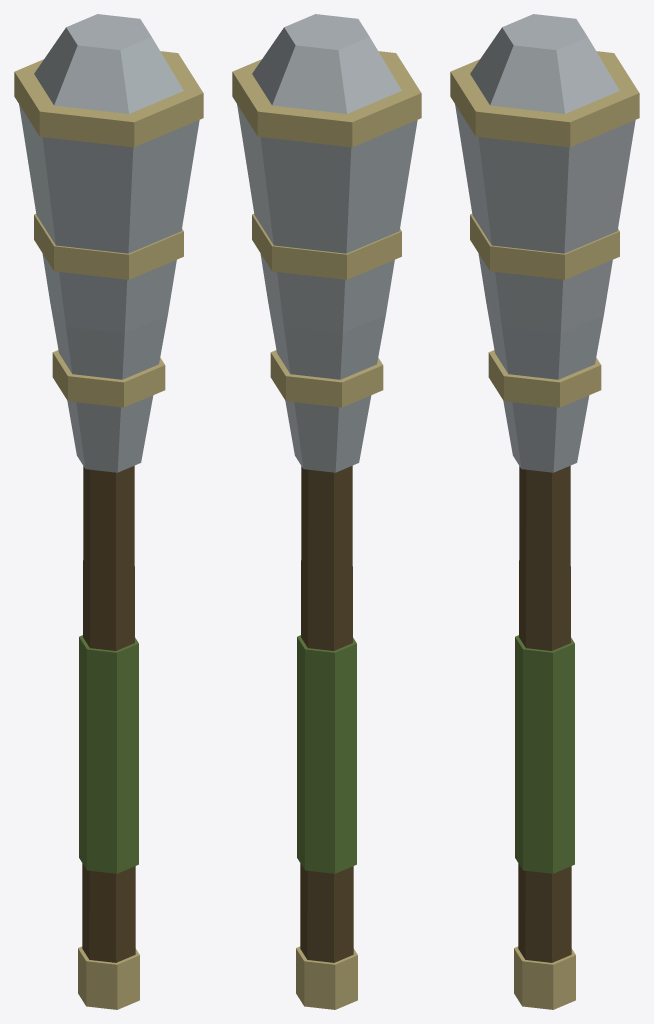
File: weapon_warhammer.glb
3 views of the same model, side by side, from view 1: azimuth 30°, elevation 25°; view 2: azimuth 150°, elevation 25°; view 3: azimuth 270°, elevation 25° (orthographic).
Visible parts, largest first — view 1: elf_weapon_warhammer; view 2: elf_weapon_warhammer; view 3: elf_weapon_warhammer.
Part boxes in pixels (x1,y1,x2,y2): elf_weapon_warhammer: (14, 14, 203, 1009); elf_weapon_warhammer: (232, 14, 421, 1009); elf_weapon_warhammer: (450, 14, 639, 1009).
Bounding box in the file's own units: 0.2046 × 1.15 × 0.2046.
